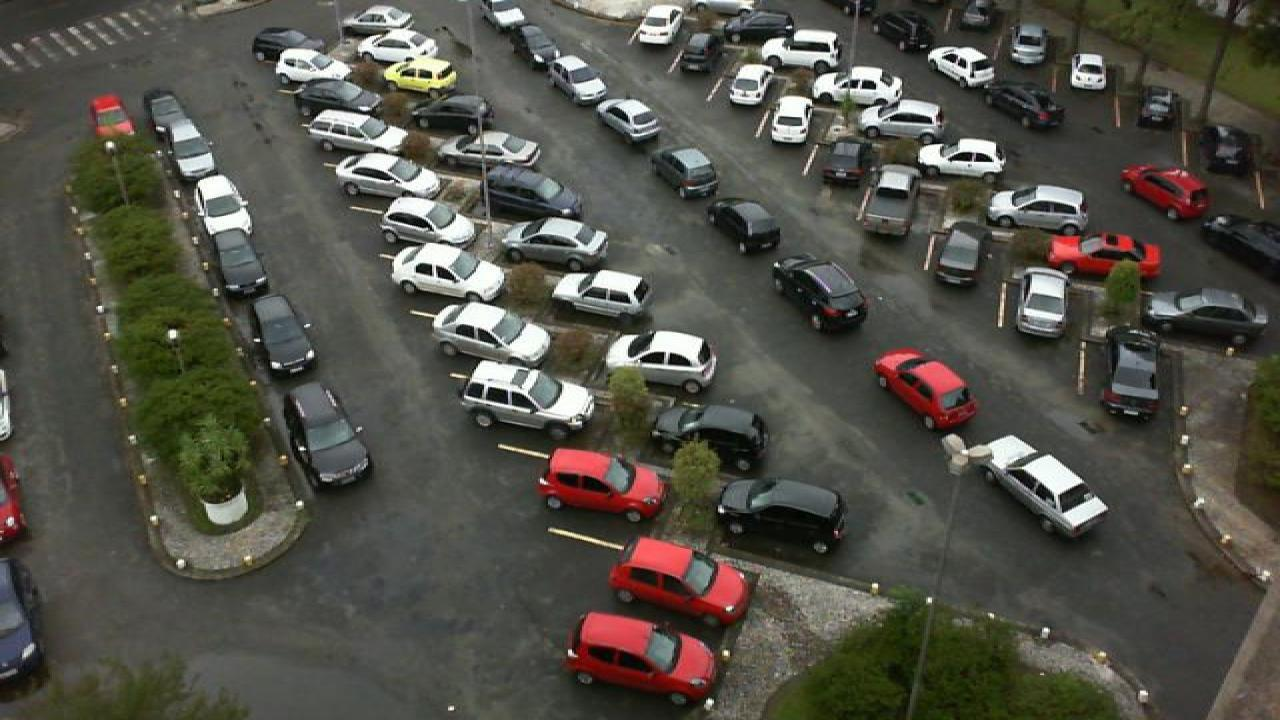Car: (564, 611, 720, 705), (604, 536, 754, 628), (982, 433, 1112, 538), (716, 474, 848, 554), (460, 359, 596, 435), (536, 447, 670, 524), (284, 380, 372, 486), (648, 399, 770, 472), (870, 347, 978, 428), (428, 300, 556, 366), (1144, 286, 1270, 348), (772, 253, 868, 334), (604, 327, 718, 395), (388, 240, 508, 304), (1046, 233, 1162, 288), (1098, 325, 1162, 420), (248, 292, 320, 376), (504, 216, 610, 270), (378, 196, 480, 252), (1118, 163, 1212, 223), (550, 268, 654, 322), (482, 166, 582, 222), (332, 152, 444, 201), (988, 183, 1090, 233), (1196, 213, 1280, 271), (438, 128, 542, 174), (304, 108, 408, 154), (702, 198, 784, 255), (856, 165, 920, 238), (206, 227, 268, 297), (1010, 266, 1070, 338), (808, 65, 904, 109), (982, 81, 1066, 131), (408, 94, 500, 138), (914, 138, 1008, 180), (758, 30, 842, 77), (650, 146, 722, 200), (930, 222, 988, 288), (194, 173, 254, 235), (158, 119, 218, 179), (860, 98, 944, 140), (294, 81, 382, 120), (874, 10, 940, 59), (928, 45, 998, 91), (274, 47, 352, 88), (594, 98, 664, 143), (354, 28, 438, 64), (380, 56, 458, 94), (544, 56, 608, 102), (144, 87, 198, 140), (252, 27, 326, 64), (818, 138, 870, 189), (724, 9, 798, 43), (340, 5, 416, 37), (1204, 124, 1250, 176), (88, 94, 136, 143), (768, 95, 814, 145), (630, 3, 684, 45), (674, 29, 720, 73), (514, 25, 560, 68), (1136, 84, 1178, 130), (728, 63, 770, 106), (1068, 52, 1108, 91), (1010, 24, 1048, 65), (482, 0, 530, 30)
